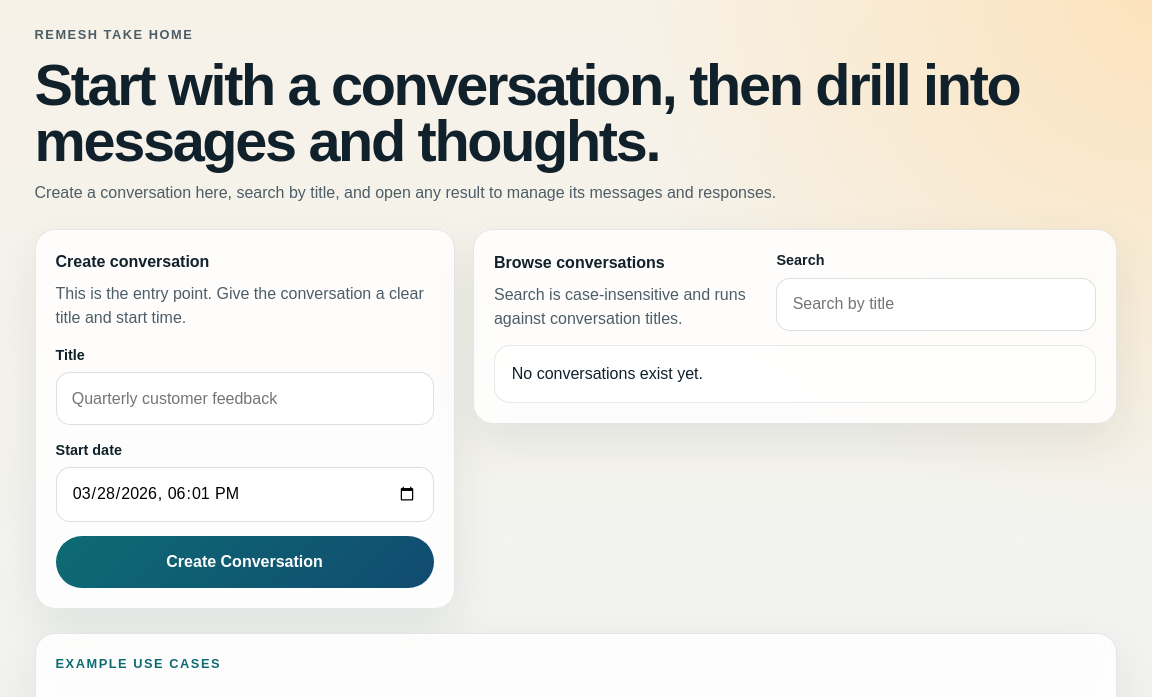
Test case: ConversationsPage › shows backend errors
Type "Town Hall" into the field labelled "Title". click: (244, 399)
box: [56, 372, 434, 425]
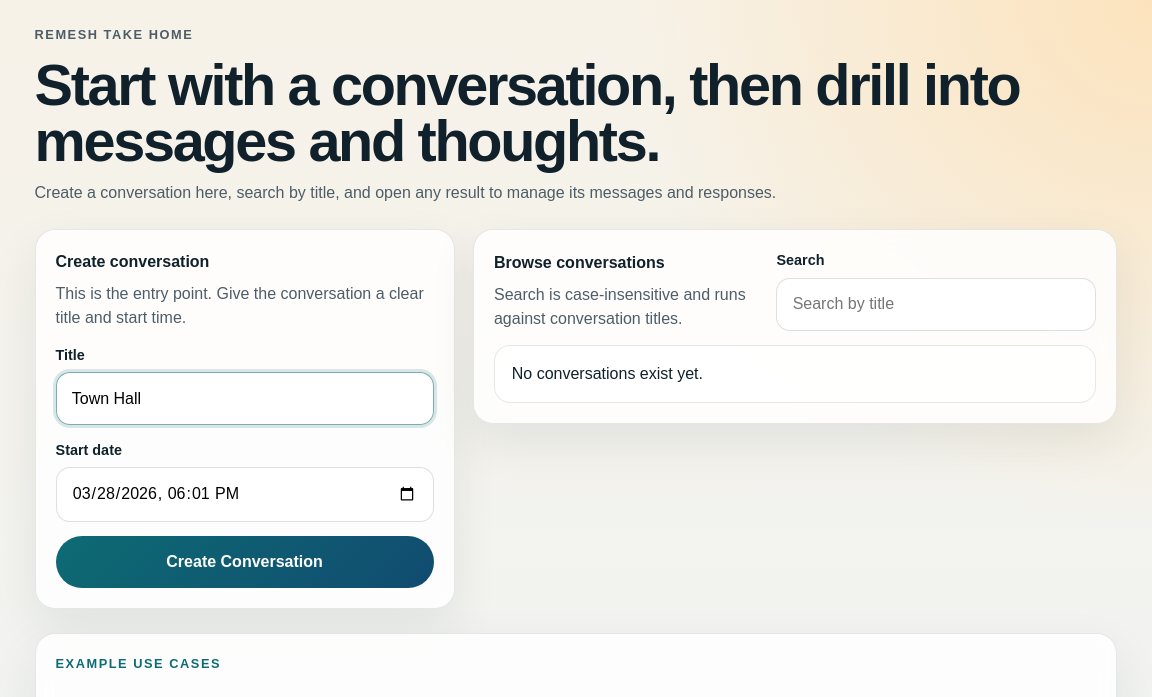
Click the button "Create Conversation". click: (244, 562)
box: [56, 536, 434, 588]
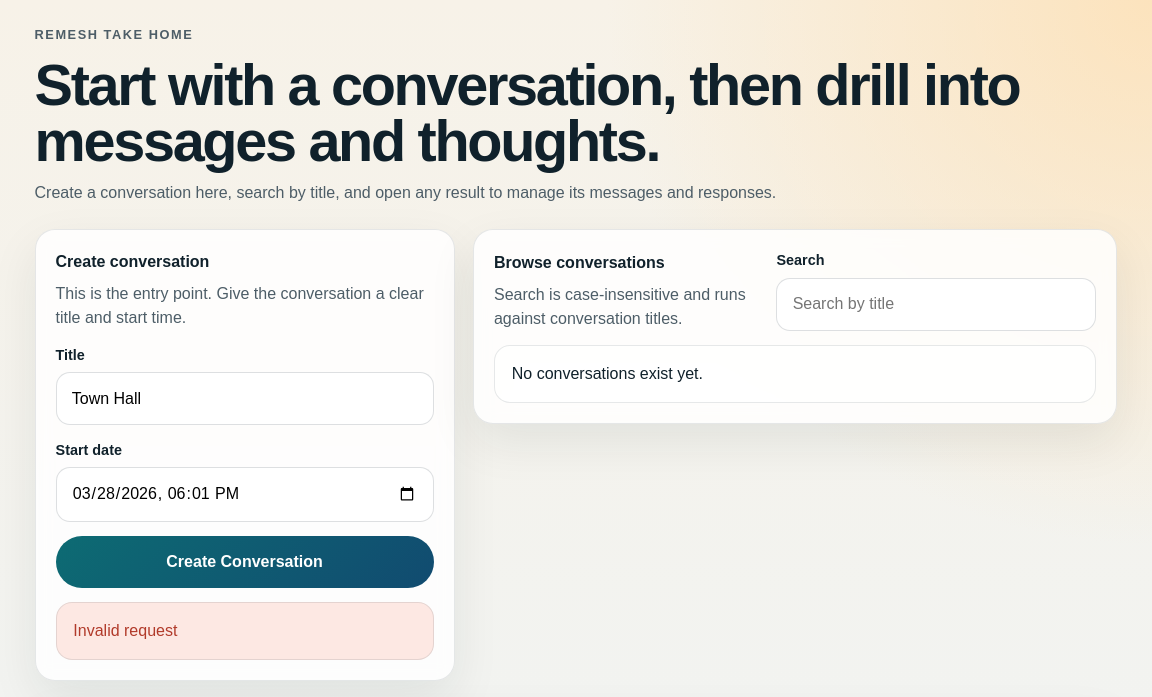
Expected: the message reads "Invalid request", [73, 622, 177, 639]
